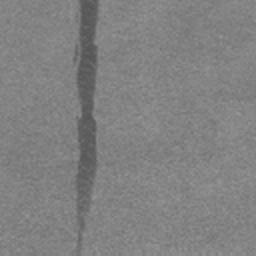Red iron sheet: (73, 0, 99, 232), (78, 236, 82, 247)
